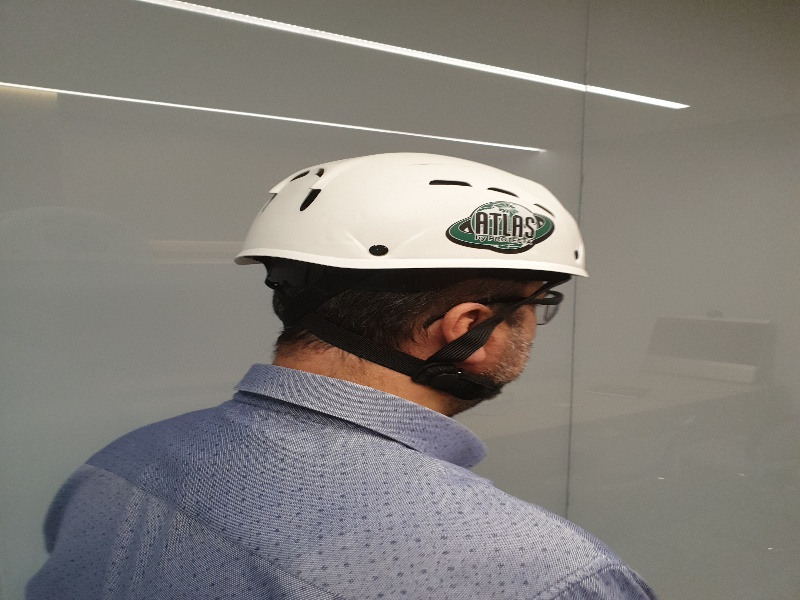Baret: (240, 136, 618, 282)
Gozluk: (507, 289, 573, 328)
